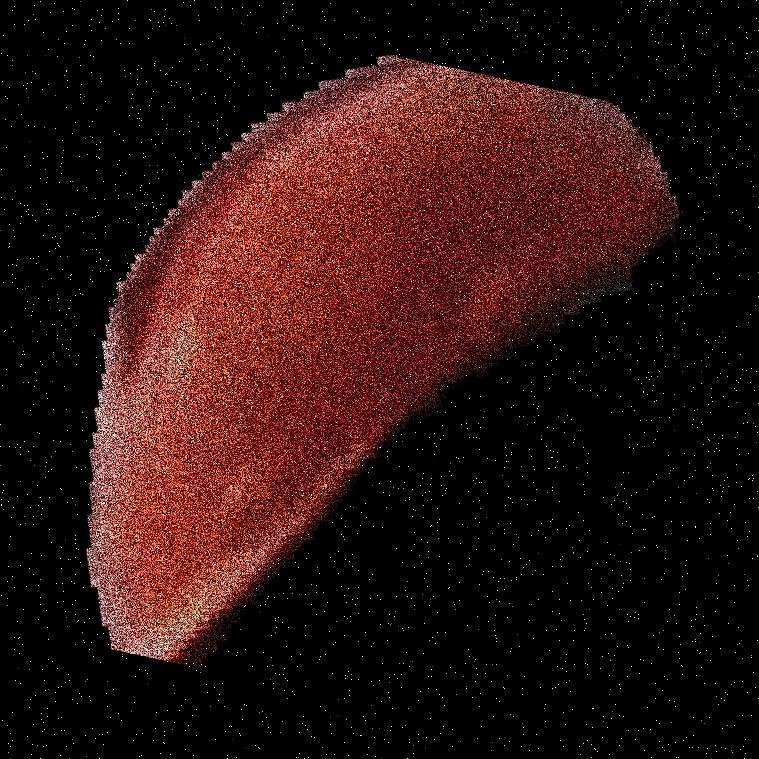Capacete: (180, 0, 484, 758)
